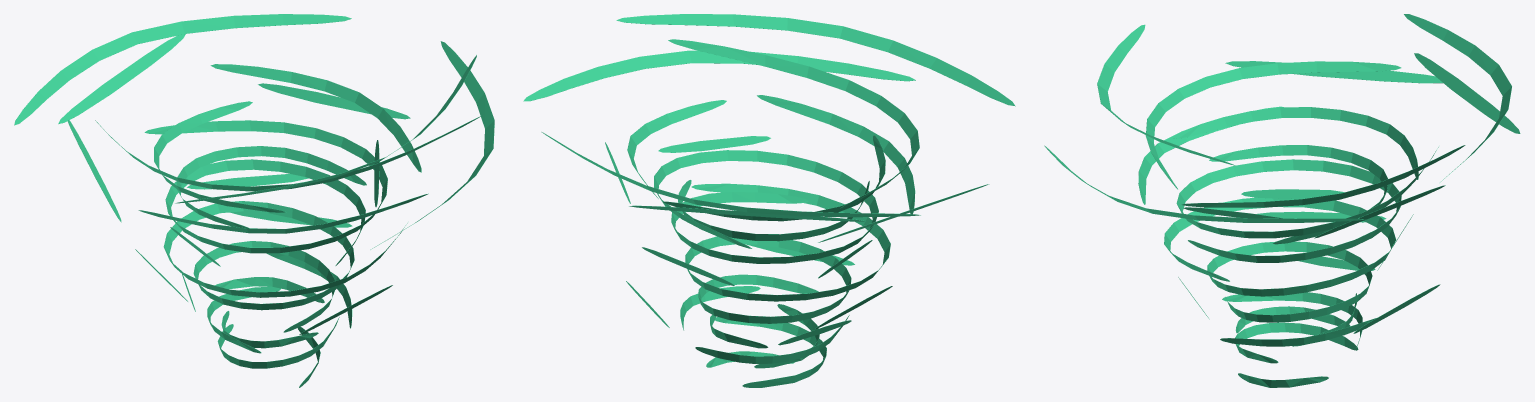
Rendered from Wind.fbx.
3 renders of one model, left to right at view 1: azimuth 30°, elevation 25°; view 2: azimuth 150°, elevation 25°; view 3: azimuth 270°, elevation 25°, orthographic. The views are drawn at different scales.
Visible parts, largest first — view 1: Plane; view 2: Plane; view 3: Plane.
Part boxes in pixels (x1,y1,x2,y2): Plane: [14, 14, 494, 387]; Plane: [523, 14, 1015, 387]; Plane: [1044, 14, 1520, 387].
Size of the model in its own units: 2684 by 1839 by 2645.
